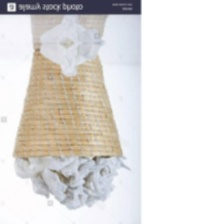tissue: (8, 148, 135, 216), (33, 36, 109, 82)
